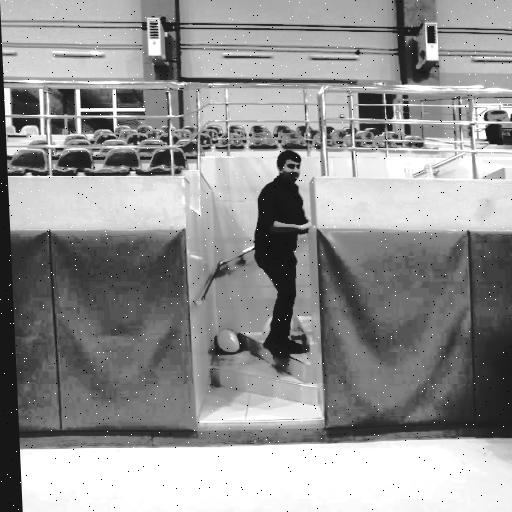balloon: (213, 330, 239, 354)
